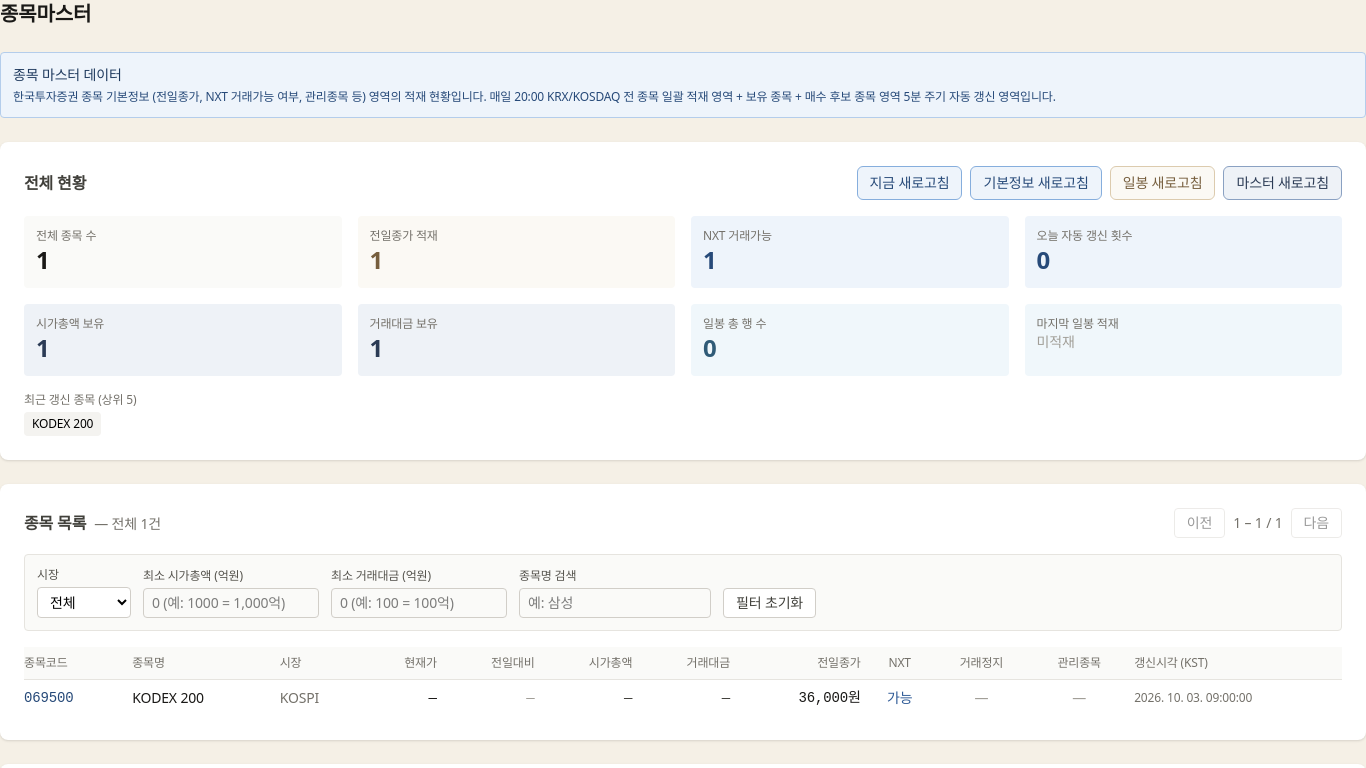
cycle403 — StockMaster ETF 추세 유니버스 4 키가 raw 에서 실제로 렌더된다 › G-FE-ETF1: detail 모달이 raw 안의 ETF 4 키를 한글 라벨 + 값으로 보여준다
The width and height of the screenshot is (1366, 768).
Click the text "069500": [49, 698] box [24,680,132,716]
(page scrolled)
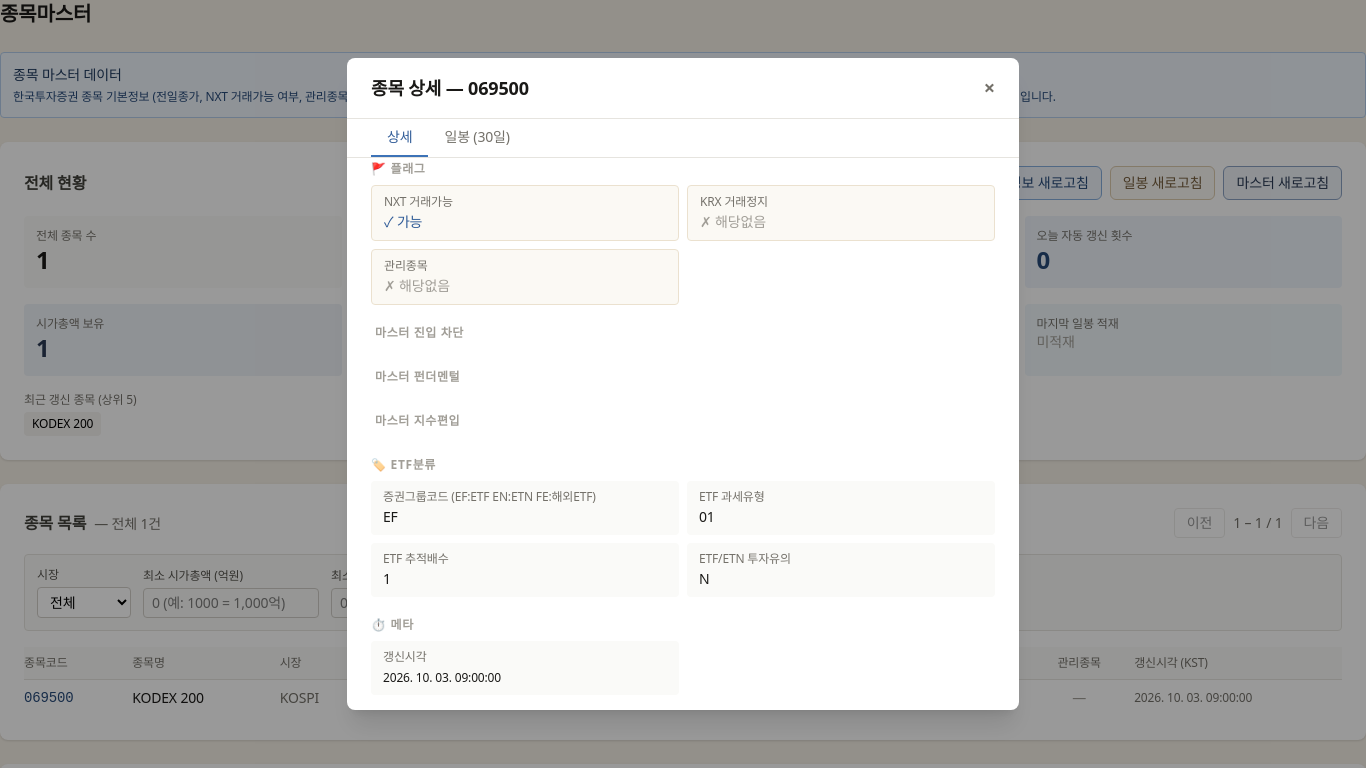
Now the element with test id "stock-master-detail-modal" is shown
Now the element showing "증권그룹코드 (EF:ETF EN:ETN FE:해외ETF) EF" is shown, box [371,481,679,535]
Now the element showing "ETF 과세유형 01" is shown, box [687,481,995,535]
